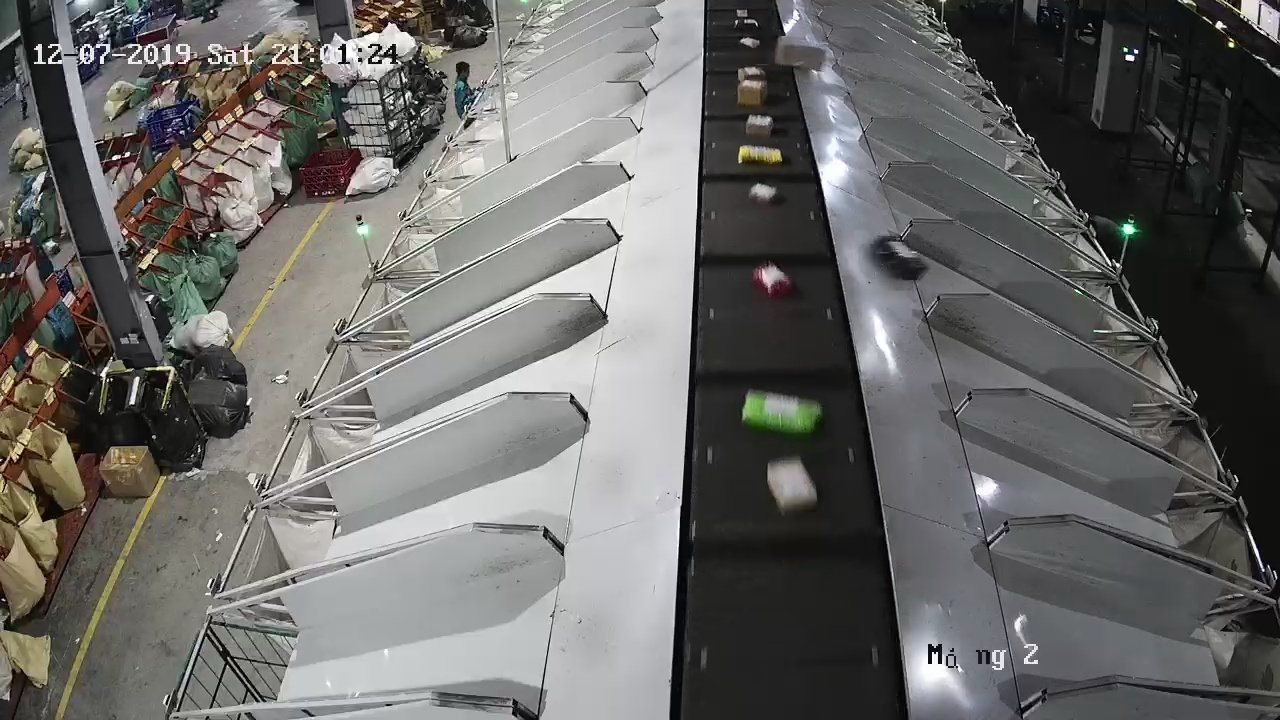parcel: (869, 234, 927, 281)
